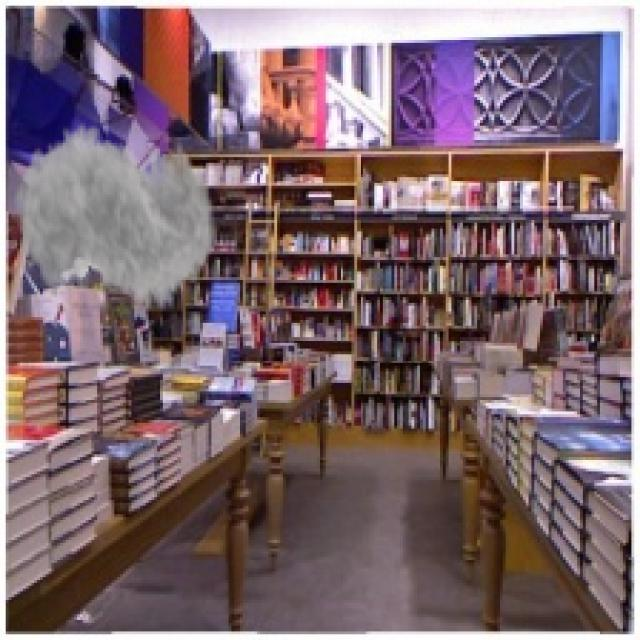smoke: (14, 106, 217, 334)
